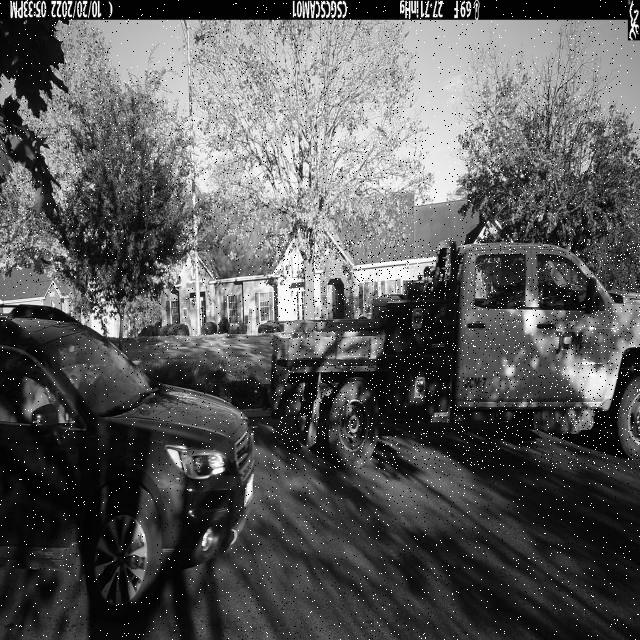Pickup- Utility: (272, 240, 640, 470)
